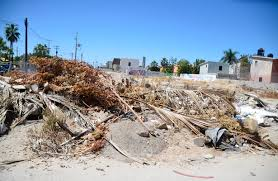rubble: (1, 71, 272, 147)
